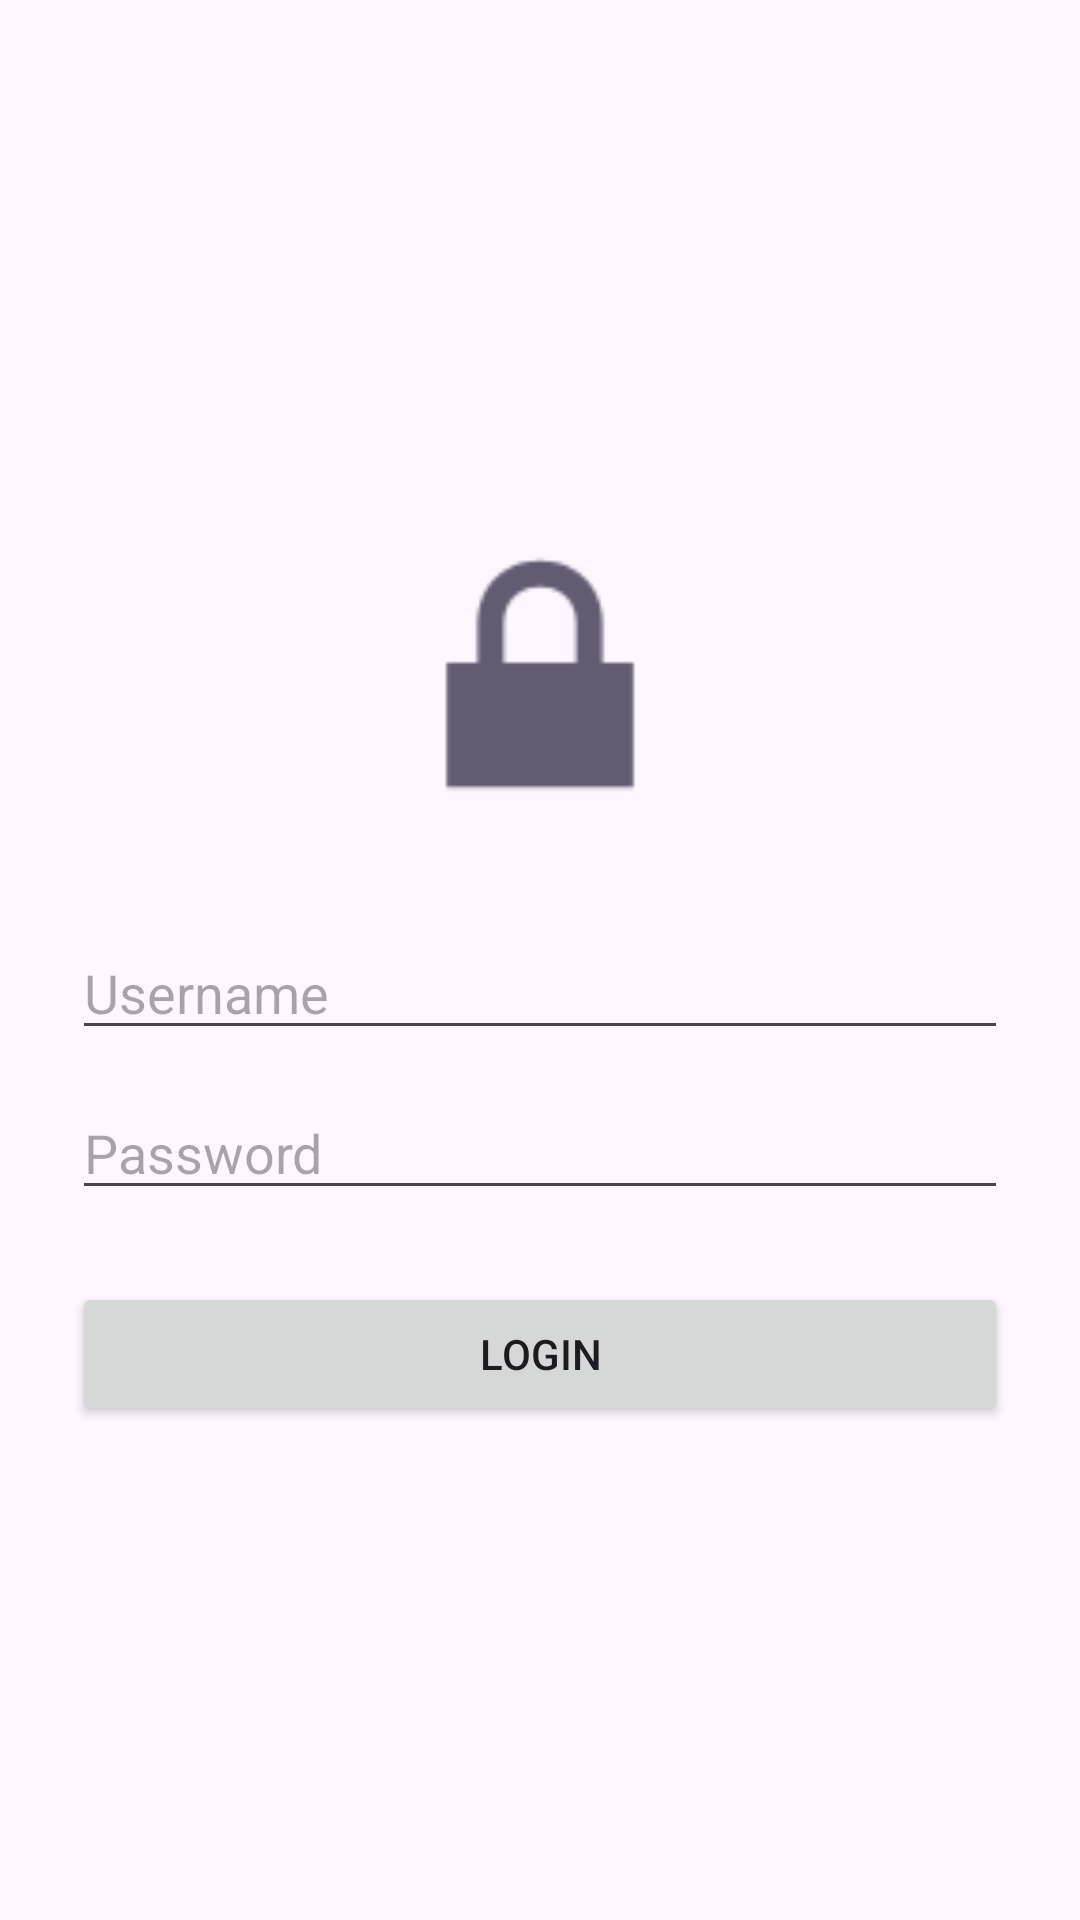

Where to tap for icons on this 1080*1920 app screen, as [x,y]:
lock: [540,674]
